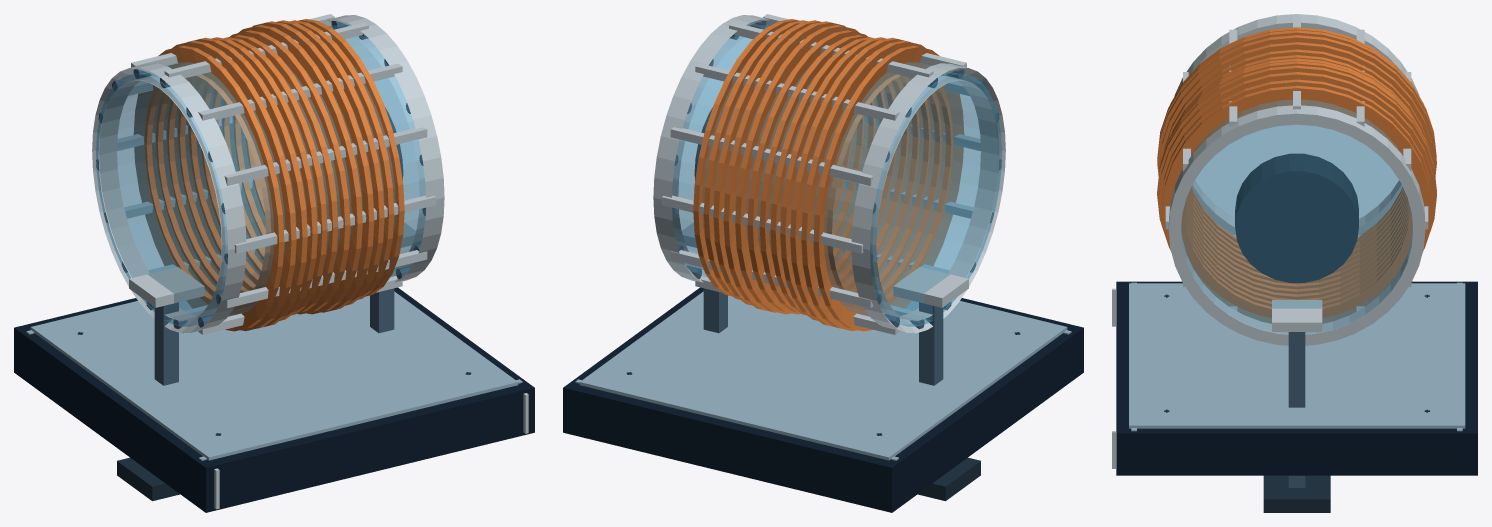
File: 02_L75_PrecisionIonSourceAssembly.fbx
The picture shows the model from 3 angles, left to right: view 1: azimuth 30°, elevation 25°; view 2: azimuth 150°, elevation 25°; view 3: azimuth 270°, elevation 25°; orthographic projection. The views are drawn at different scales.
Parts seen in each view (by area): view 1: PrecisionIonSourceAssembly, PrecisionIonSourceAssembly_Part_0020, PrecisionIonSourceAssembly_Part_0021, PrecisionIonSourceAssembly_Part_0053, PrecisionIonSourceAssembly_Part_0022, PrecisionIonSourceAssembly_Part_0054, PrecisionIonSourceAssembly_Part_0055, PrecisionIonSourceAssembly_Part_0056, PrecisionIonSourceAssembly_Part_0061, PrecisionIonSourceAssembly_Part_0060, PrecisionIonSourceAssembly_Part_0057, PrecisionIonSourceAssembly_Part_0058 (+10 smaller); view 2: PrecisionIonSourceAssembly, PrecisionIonSourceAssembly_Part_0020, PrecisionIonSourceAssembly_Part_0021, PrecisionIonSourceAssembly_Part_0053, PrecisionIonSourceAssembly_Part_0022, PrecisionIonSourceAssembly_Part_0054, PrecisionIonSourceAssembly_Part_0055, PrecisionIonSourceAssembly_Part_0056, PrecisionIonSourceAssembly_Part_0061, PrecisionIonSourceAssembly_Part_0060, PrecisionIonSourceAssembly_Part_0057, PrecisionIonSourceAssembly_Part_0058 (+10 smaller); view 3: PrecisionIonSourceAssembly, PrecisionIonSourceAssembly_Part_0020, PrecisionIonSourceAssembly_Part_0065, PrecisionIonSourceAssembly_Part_0022, PrecisionIonSourceAssembly_Part_0064, PrecisionIonSourceAssembly_Part_0062, PrecisionIonSourceAssembly_Part_0021, PrecisionIonSourceAssembly_Part_0061, PrecisionIonSourceAssembly_Part_0056, PrecisionIonSourceAssembly_Part_0063, PrecisionIonSourceAssembly_Part_0055, PrecisionIonSourceAssembly_Part_0060 (+5 smaller).
Boxes of the visible parts, left/top/right/bottom form: PrecisionIonSourceAssembly: left=14, top=222, right=534, bottom=512; PrecisionIonSourceAssembly_Part_0020: left=96, top=24, right=425, bottom=326; PrecisionIonSourceAssembly_Part_0021: left=92, top=63, right=246, bottom=333; PrecisionIonSourceAssembly_Part_0053: left=134, top=45, right=284, bottom=331; PrecisionIonSourceAssembly_Part_0022: left=327, top=15, right=444, bottom=282; PrecisionIonSourceAssembly_Part_0054: left=152, top=40, right=296, bottom=331; PrecisionIonSourceAssembly_Part_0055: left=163, top=37, right=307, bottom=327; PrecisionIonSourceAssembly_Part_0056: left=174, top=37, right=317, bottom=320; PrecisionIonSourceAssembly_Part_0061: left=229, top=21, right=374, bottom=312; PrecisionIonSourceAssembly_Part_0060: left=219, top=25, right=362, bottom=314; PrecisionIonSourceAssembly_Part_0057: left=185, top=37, right=327, bottom=315; PrecisionIonSourceAssembly_Part_0058: left=196, top=35, right=338, bottom=313; PrecisionIonSourceAssembly: left=563, top=222, right=1083, bottom=512; PrecisionIonSourceAssembly_Part_0020: left=672, top=24, right=1001, bottom=326; PrecisionIonSourceAssembly_Part_0021: left=851, top=63, right=1005, bottom=333; PrecisionIonSourceAssembly_Part_0053: left=813, top=45, right=963, bottom=331; PrecisionIonSourceAssembly_Part_0022: left=653, top=15, right=770, bottom=282; PrecisionIonSourceAssembly_Part_0054: left=801, top=40, right=945, bottom=331; PrecisionIonSourceAssembly_Part_0055: left=790, top=37, right=934, bottom=327; PrecisionIonSourceAssembly_Part_0056: left=780, top=37, right=923, bottom=320; PrecisionIonSourceAssembly_Part_0061: left=723, top=21, right=868, bottom=312; PrecisionIonSourceAssembly_Part_0060: left=735, top=25, right=878, bottom=314; PrecisionIonSourceAssembly_Part_0057: left=770, top=37, right=912, bottom=315; PrecisionIonSourceAssembly_Part_0058: left=759, top=35, right=901, bottom=313; PrecisionIonSourceAssembly: left=1112, top=281, right=1477, bottom=512; PrecisionIonSourceAssembly_Part_0020: left=1181, top=100, right=1412, bottom=333; PrecisionIonSourceAssembly_Part_0065: left=1235, top=153, right=1358, bottom=282; PrecisionIonSourceAssembly_Part_0022: left=1168, top=105, right=1425, bottom=345; PrecisionIonSourceAssembly_Part_0064: left=1162, top=85, right=1431, bottom=323; PrecisionIonSourceAssembly_Part_0062: left=1158, top=72, right=1435, bottom=301; PrecisionIonSourceAssembly_Part_0021: left=1174, top=14, right=1419, bottom=234; PrecisionIonSourceAssembly_Part_0061: left=1157, top=65, right=1436, bottom=299; PrecisionIonSourceAssembly_Part_0056: left=1159, top=42, right=1434, bottom=264; PrecisionIonSourceAssembly_Part_0063: left=1161, top=79, right=1432, bottom=306; PrecisionIonSourceAssembly_Part_0055: left=1157, top=35, right=1436, bottom=255; PrecisionIonSourceAssembly_Part_0060: left=1160, top=61, right=1433, bottom=294.
Bounding box in the file's own units: 214 × 259 × 218.
